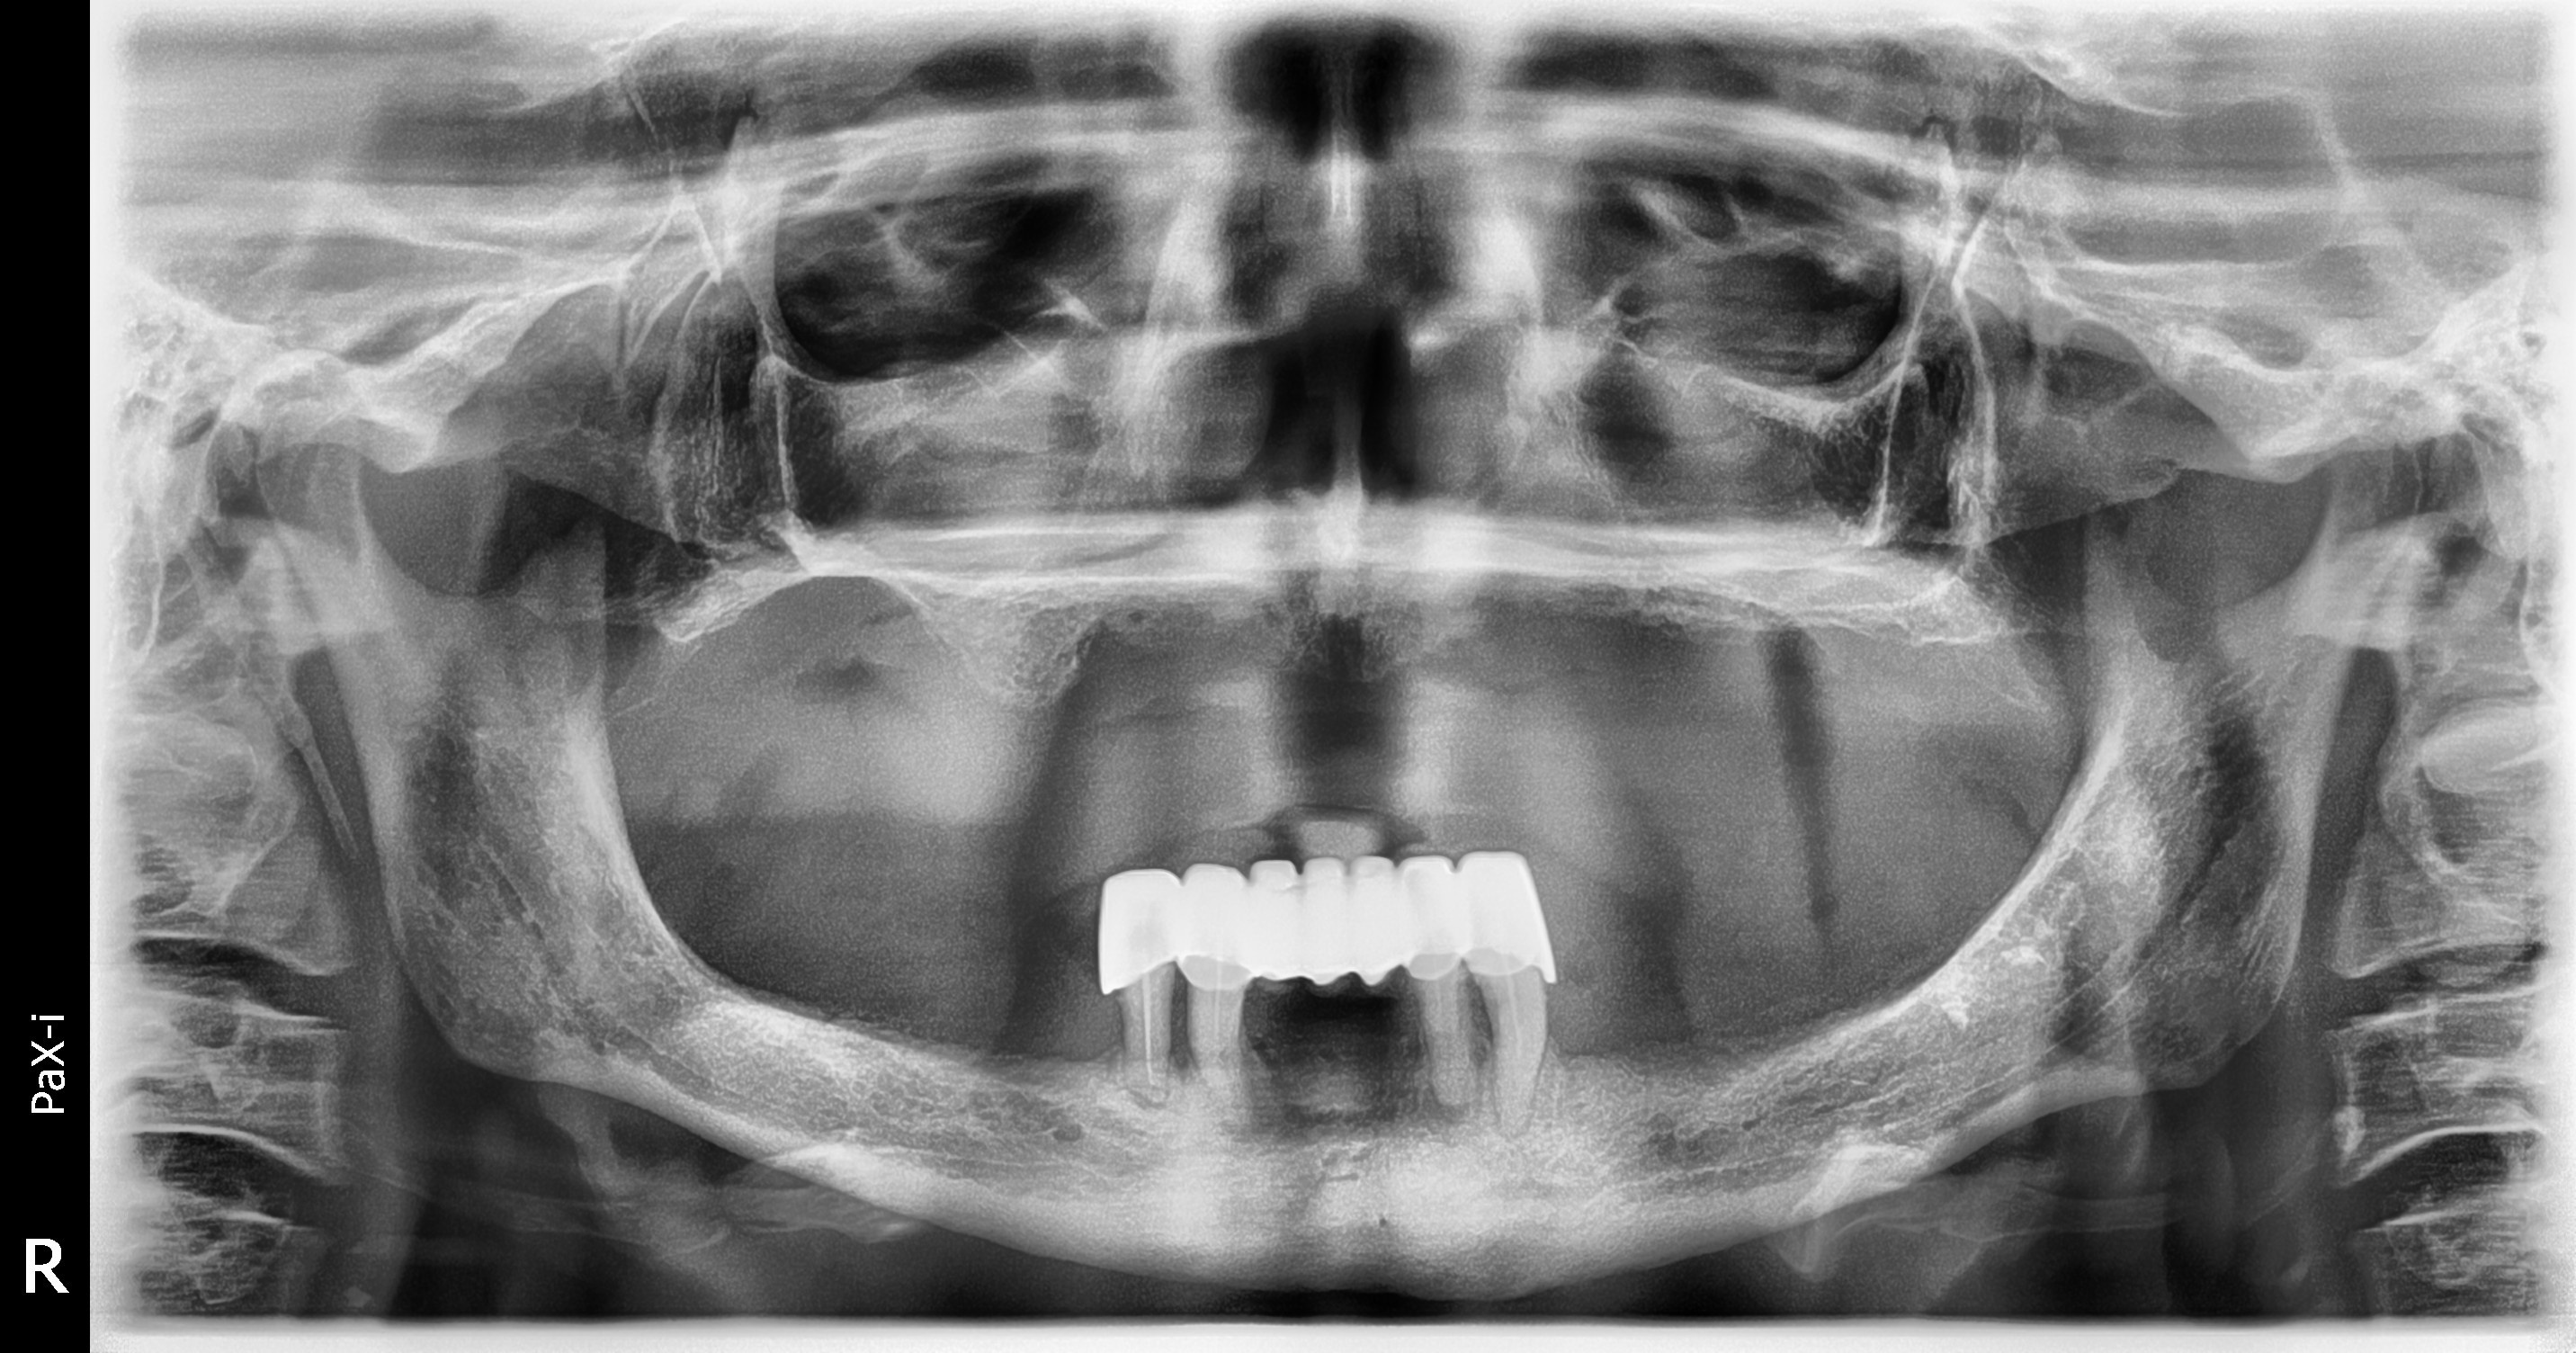API: (1124, 1082, 1167, 1109)
END: (1141, 973, 1152, 1087)
PRR: (1101, 852, 1555, 993)
